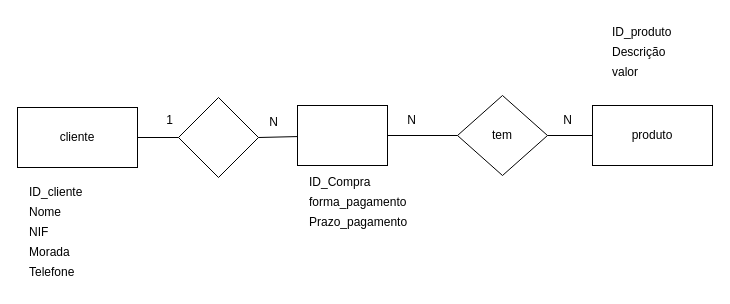
Image size: 730x304. Some labels were removed from this diagram. Here are the shapes that lost their labels. From the top down, the centre of each, then its label:
At pixel 218 137: "faz".
At pixel 342 135: "compra".
